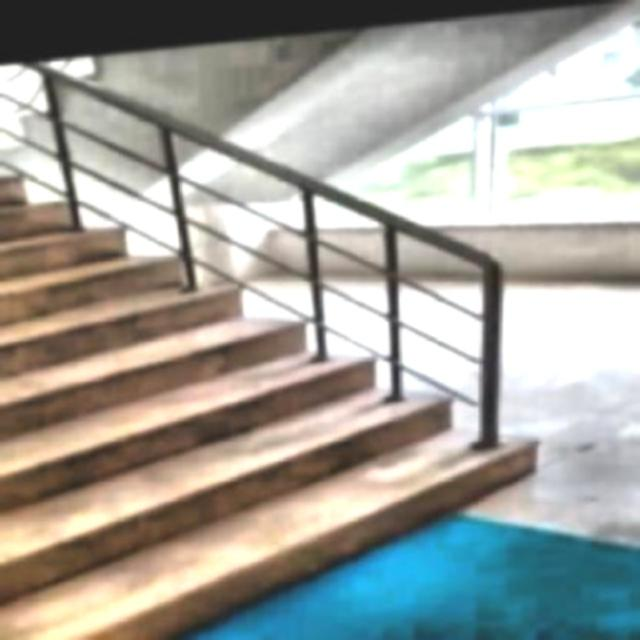stair: (0, 90, 586, 638)
